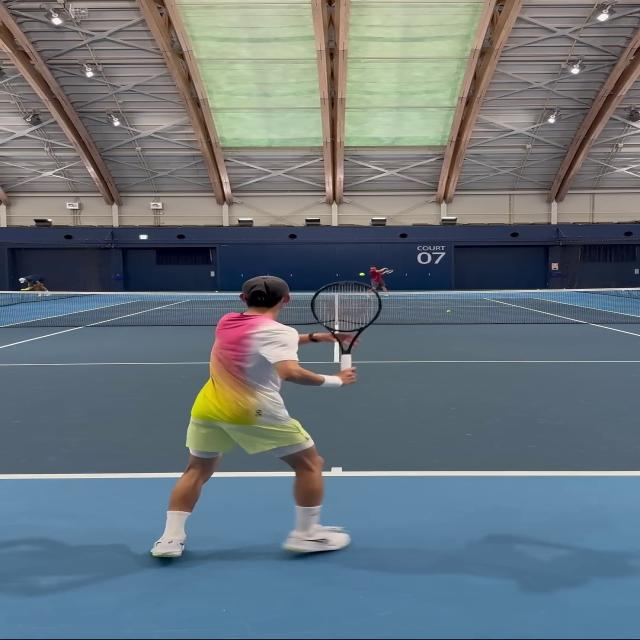tennis_ball: (361, 274, 364, 276)
